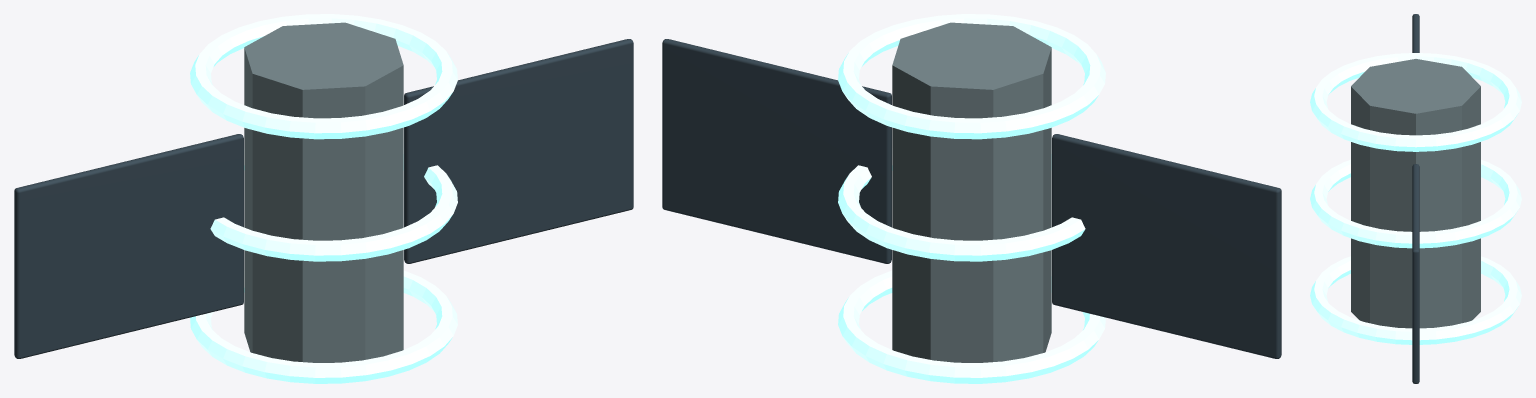
The model's file is beacon.glb.
3 views of the same model, side by side, from view 1: azimuth 30°, elevation 25°; view 2: azimuth 150°, elevation 25°; view 3: azimuth 270°, elevation 25° (orthographic). The views are drawn at different scales.
Parts seen in each view (by area): view 1: beacon; view 2: beacon; view 3: beacon.
Boxes of the visible parts, x1,y1,x2,y2 form: beacon: (14, 14, 633, 383); beacon: (662, 14, 1281, 383); beacon: (1310, 14, 1521, 383).
Bounding box in the file's own units: 9.5 × 4.2 × 3.58.
